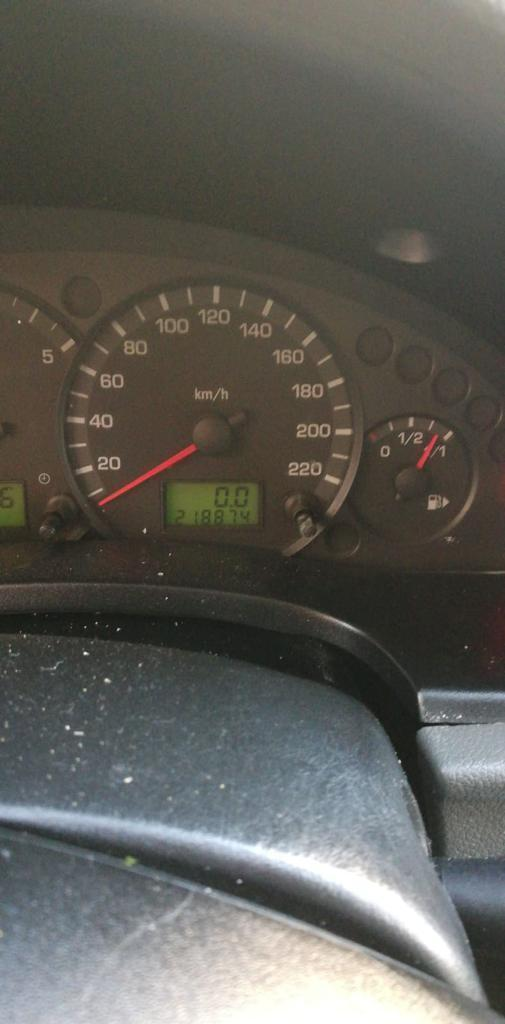,: (228, 502, 233, 509)
0: (233, 484, 249, 508), (213, 484, 228, 508)
1: (191, 508, 198, 525)
2: (173, 508, 185, 525)
4: (238, 509, 250, 525)
7: (227, 508, 237, 524)
8: (200, 508, 211, 525), (213, 509, 223, 525)
odometer: (160, 478, 264, 530)
